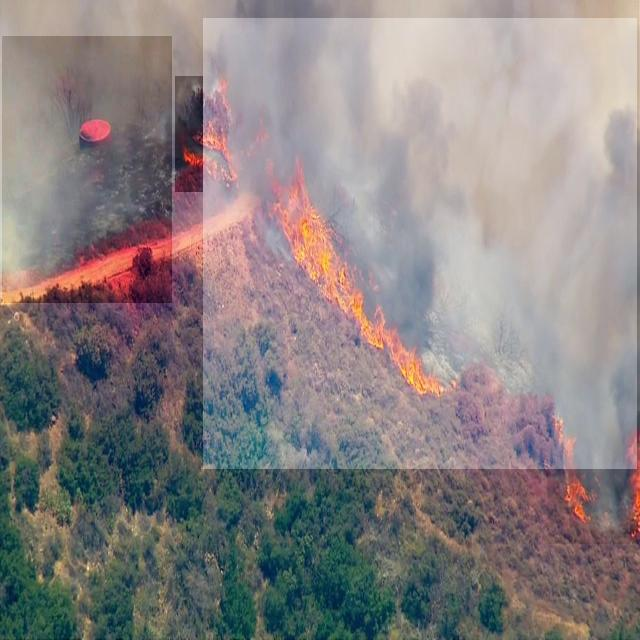Fire: (272, 157, 448, 401), (547, 411, 640, 544), (175, 76, 267, 192)
Smoke: (203, 18, 637, 469), (2, 36, 172, 303)
